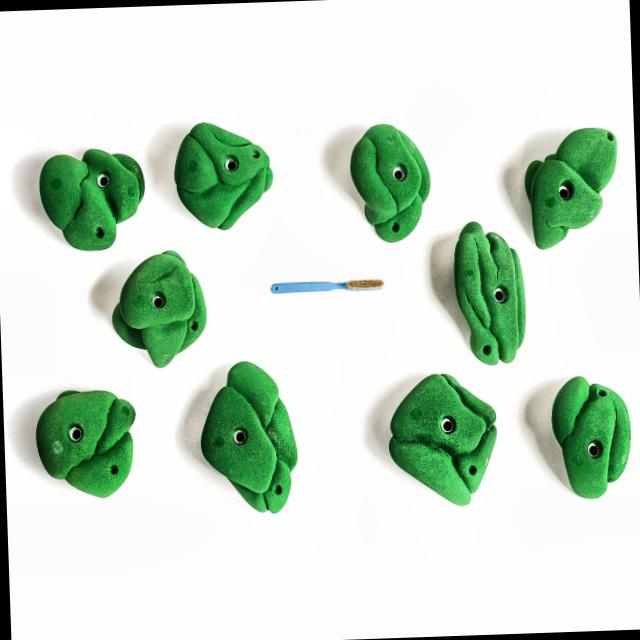Hold: (194, 362, 301, 520), (386, 368, 500, 514), (27, 388, 140, 498), (37, 146, 148, 254), (170, 119, 277, 230), (522, 122, 615, 248), (548, 369, 634, 498), (452, 223, 530, 364), (348, 123, 439, 240), (114, 258, 206, 362)
